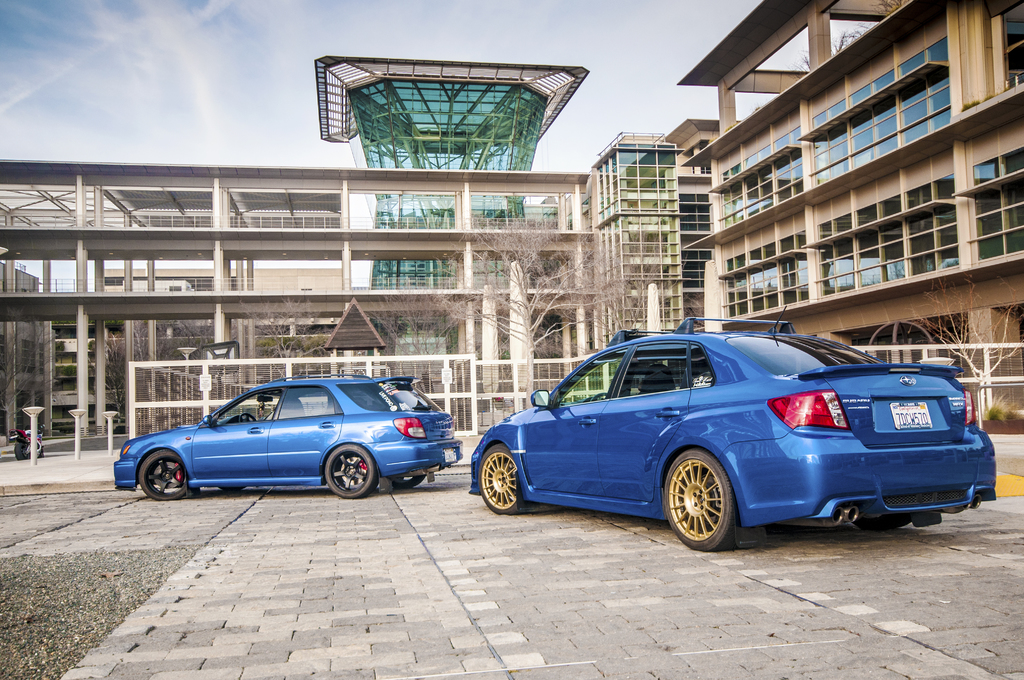Car: (464, 327, 996, 551), (106, 373, 469, 501)
